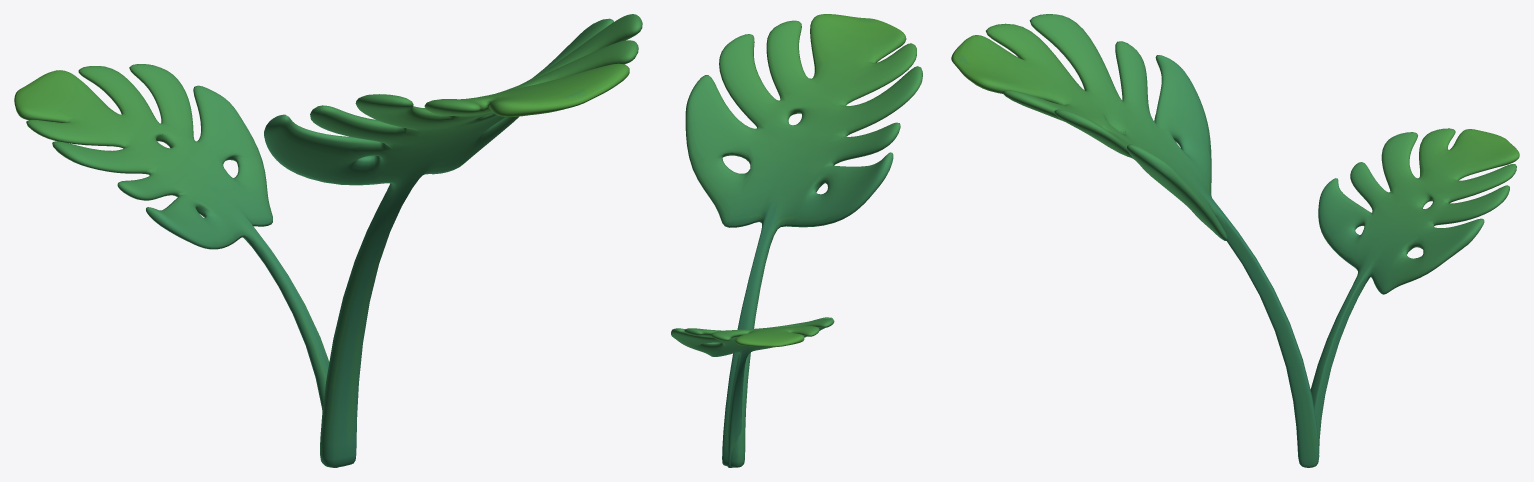
File: guibeizhu.fbx
3 renders of one model, left to right at view 1: azimuth 30°, elevation 25°; view 2: azimuth 150°, elevation 25°; view 3: azimuth 270°, elevation 25°, orthographic. The views are drawn at different scales.
Parts seen in each view (by area): view 1: 平面.003, 平面.004; view 2: 平面.003, 平面.004; view 3: 平面.003, 平面.004.
Part boxes in pixels (x1=…): 平面.003: x1=264, y1=14, x2=642, y2=467; 平面.004: x1=14, y1=64, x2=337, y2=467; 平面.003: x1=685, y1=14, x2=922, y2=467; 平面.004: x1=671, y1=317, x2=834, y2=467; 平面.003: x1=951, y1=14, x2=1319, y2=467; 平面.004: x1=1310, y1=128, x2=1519, y2=453.
Size of the model in its own units: 1.15 by 1.53 by 1.91.
Materials: 1 (1 with a texture image).
